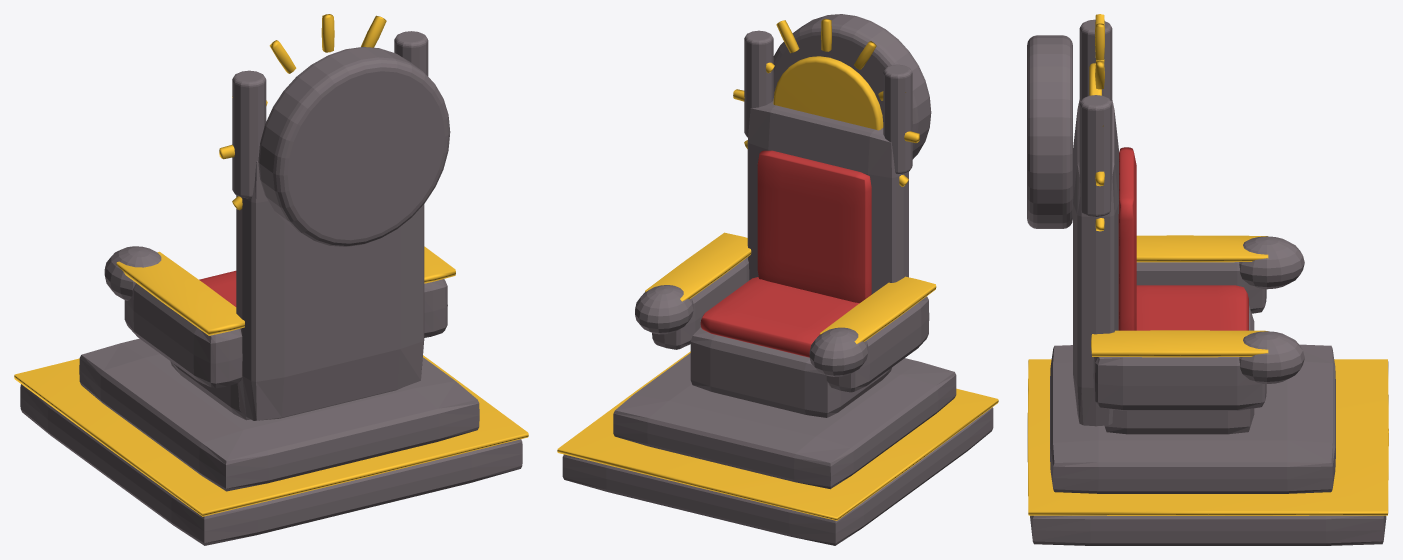
Rendered from SandThrone.obj.
3 views of the same model, side by side, from view 1: azimuth 30°, elevation 25°; view 2: azimuth 150°, elevation 25°; view 3: azimuth 270°, elevation 25° (orthographic). The views are drawn at different scales.
Visible parts, largest first — view 1: Stone, Gold, Cushion; view 2: Stone, Gold, Cushion; view 3: Stone, Gold, Cushion.
Boxes of the visible parts, box(x1,y1,x2,y2) form: Stone: box(20, 31, 522, 545); Gold: box(14, 14, 528, 516); Cushion: box(199, 270, 236, 306); Stone: box(562, 14, 993, 545); Gold: box(557, 18, 998, 520); Cushion: box(700, 150, 871, 357); Stone: box(1027, 19, 1386, 545); Gold: box(1027, 14, 1388, 515); Cushion: box(1118, 147, 1248, 330).
Bounding box in the file's own units: 7.08 × 9.73 × 7.09.
